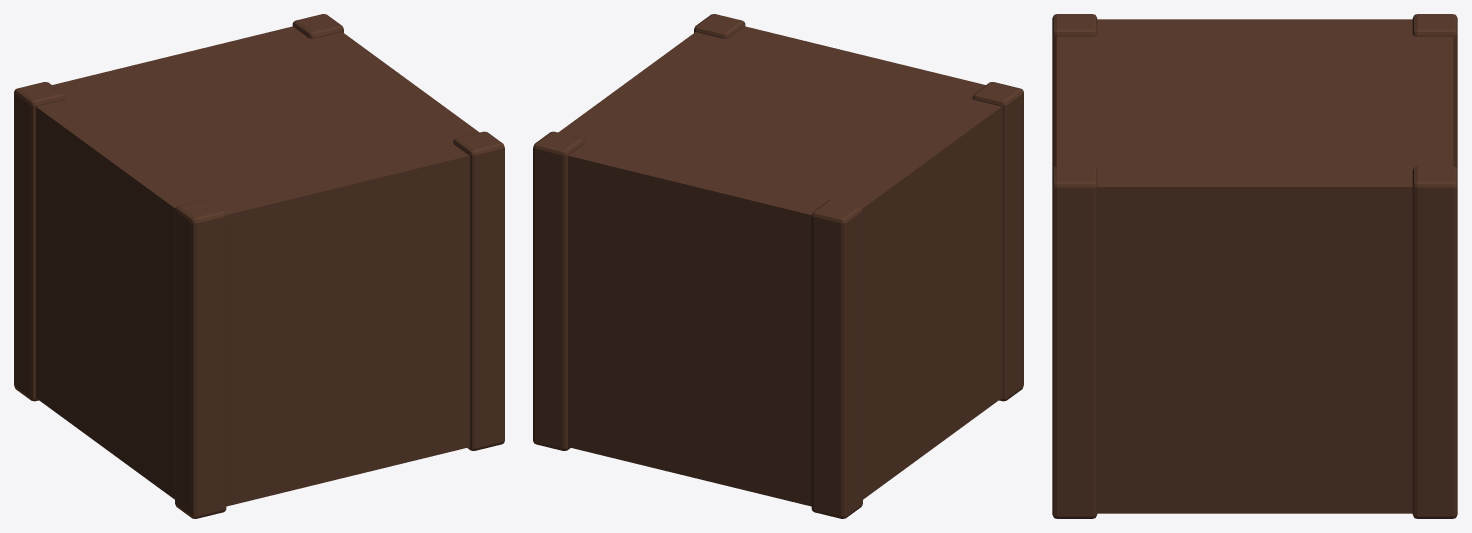
File: previous.glb
3 renders of one model, left to right at view 1: azimuth 30°, elevation 25°; view 2: azimuth 150°, elevation 25°; view 3: azimuth 270°, elevation 25°, orthographic. The views are drawn at different scales.
Visible parts, largest first — view 1: COL_crate, VIS_body, VIS_batten_sw, VIS_batten_se, VIS_band, VIS_batten_nw, VIS_batten_ne; view 2: COL_crate, VIS_batten_nw, VIS_body, VIS_batten_ne, VIS_band, VIS_batten_sw, VIS_batten_se; view 3: COL_crate, VIS_body, VIS_batten_ne, VIS_batten_se, VIS_band, VIS_batten_nw, VIS_batten_sw.
Boxes of the visible parts, bbox=[...] form: COL_crate: bbox=[36, 26, 479, 506]; VIS_body: bbox=[60, 33, 459, 207]; VIS_batten_sw: bbox=[175, 199, 226, 518]; VIS_batten_se: bbox=[453, 131, 504, 450]; VIS_band: bbox=[36, 241, 469, 372]; VIS_batten_nw: bbox=[14, 82, 65, 401]; VIS_batten_ne: bbox=[292, 14, 343, 38]; COL_crate: bbox=[558, 26, 1001, 506]; VIS_batten_nw: bbox=[811, 199, 862, 518]; VIS_body: bbox=[576, 33, 968, 207]; VIS_batten_ne: bbox=[533, 131, 584, 450]; VIS_band: bbox=[568, 239, 1001, 373]; VIS_batten_sw: bbox=[972, 82, 1023, 401]; VIS_batten_se: bbox=[694, 14, 745, 38]; COL_crate: bbox=[1056, 19, 1453, 513]; VIS_body: bbox=[1076, 27, 1433, 178]; VIS_batten_ne: bbox=[1412, 166, 1457, 518]; VIS_batten_se: bbox=[1052, 166, 1097, 518]; VIS_band: bbox=[1097, 335, 1412, 364]; VIS_batten_nw: bbox=[1412, 14, 1457, 169]; VIS_batten_sw: bbox=[1052, 14, 1097, 169].
Bounding box in the file's own units: 0.675 × 0.62 × 0.675.
